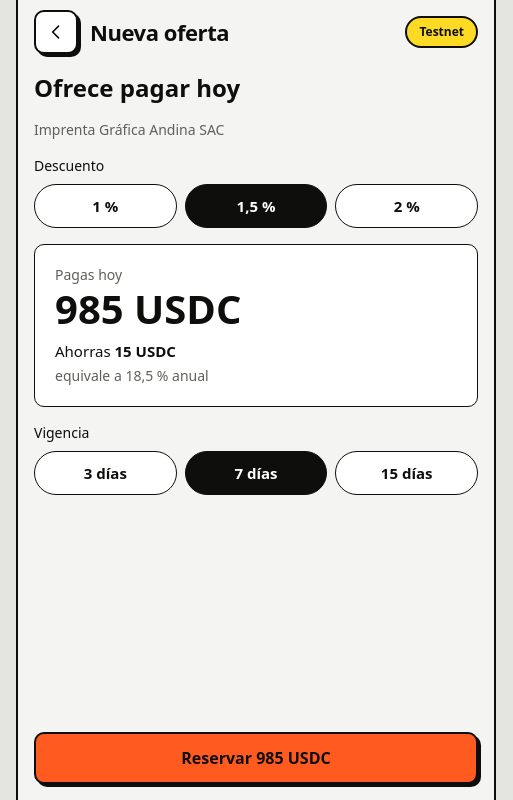
offer lifecycle through the screens › changing the discount updates what the buyer pays today
This screenshot has width=513, height=800.
Click the button named "2 %" at (407, 206), box [335,184,478,228]
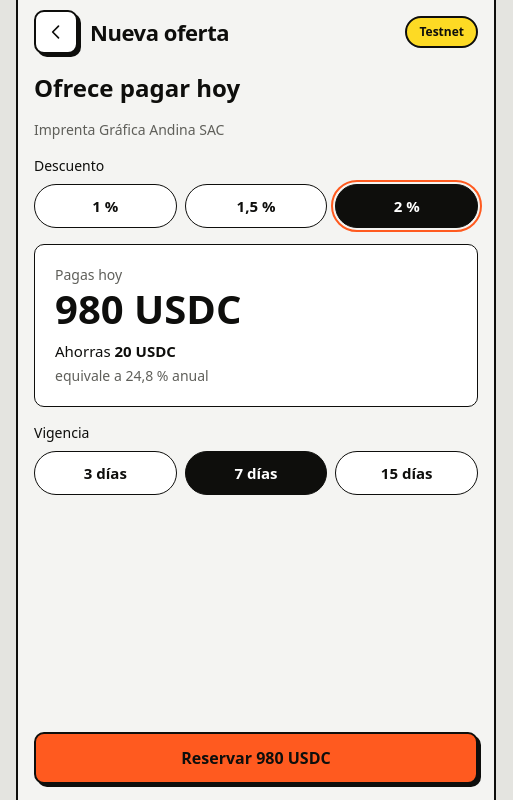
Expected: the button "Reservar 980 USDC" is shown, [34,732,478,784]
